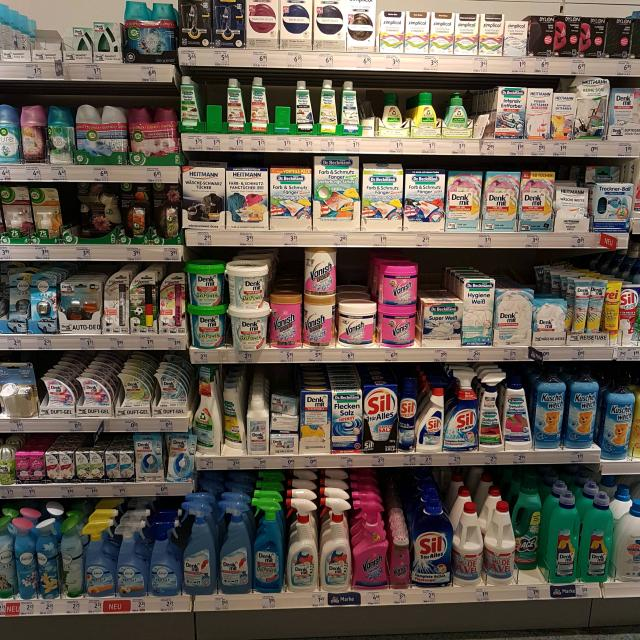unorganised: (194, 378, 243, 454), (514, 497, 548, 580), (68, 186, 114, 238), (268, 391, 300, 454), (371, 91, 406, 126), (67, 23, 94, 59)
